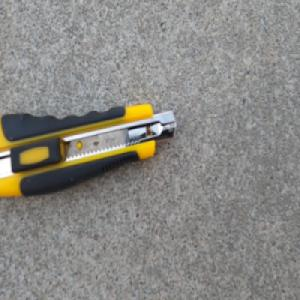Cutter: (0, 102, 178, 200)
